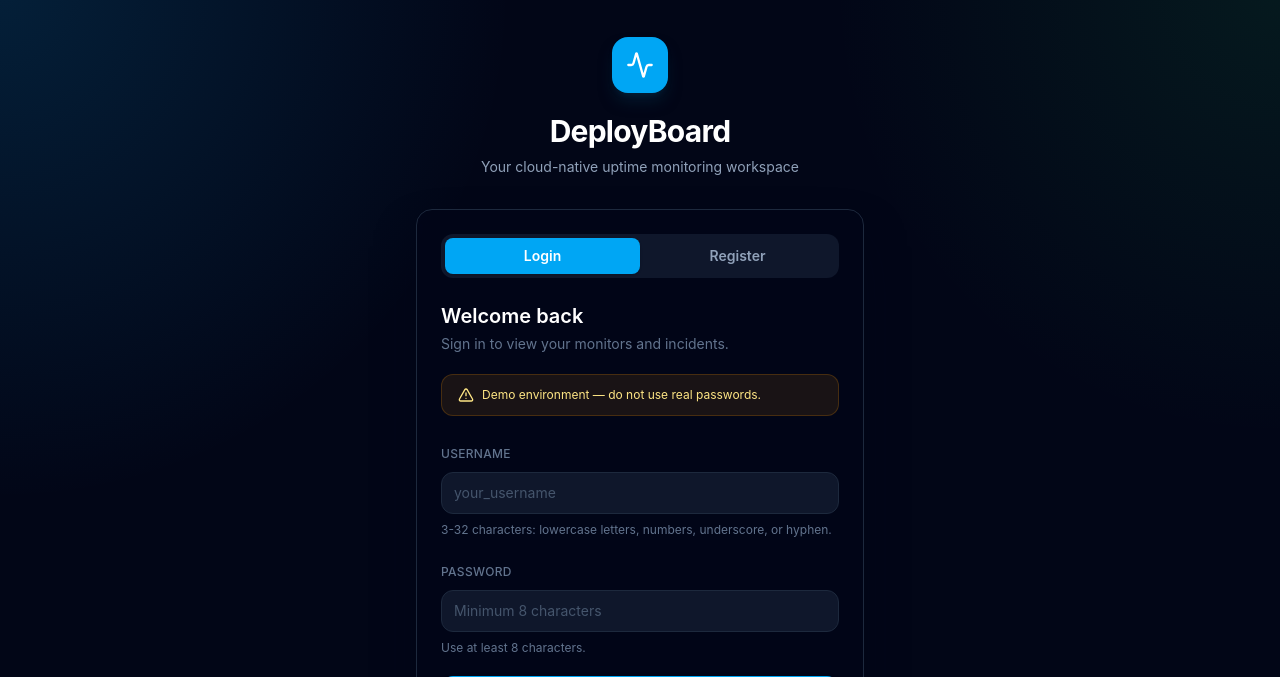
authentication › registers matching passwords through the register endpoint
Click the button "Register": (738, 256) 640,238 -> 835,274
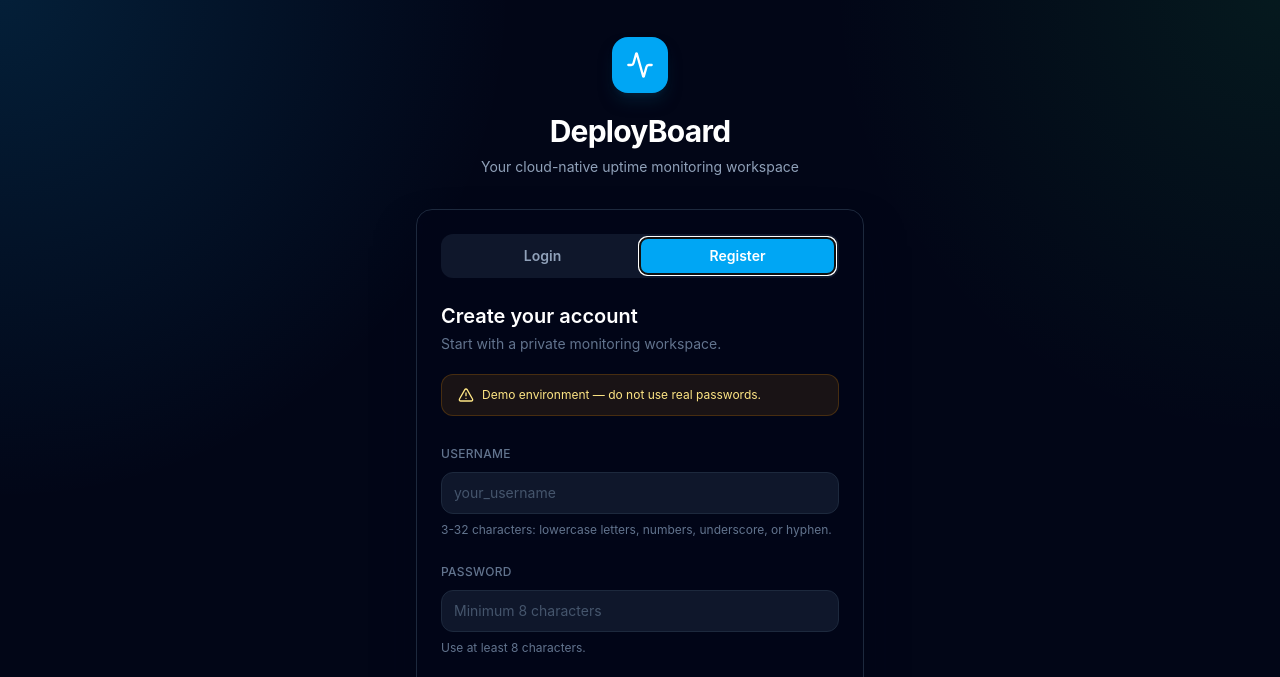
In the field labelled "Username": (640, 493) 441,472 -> 839,514, type "test_user"
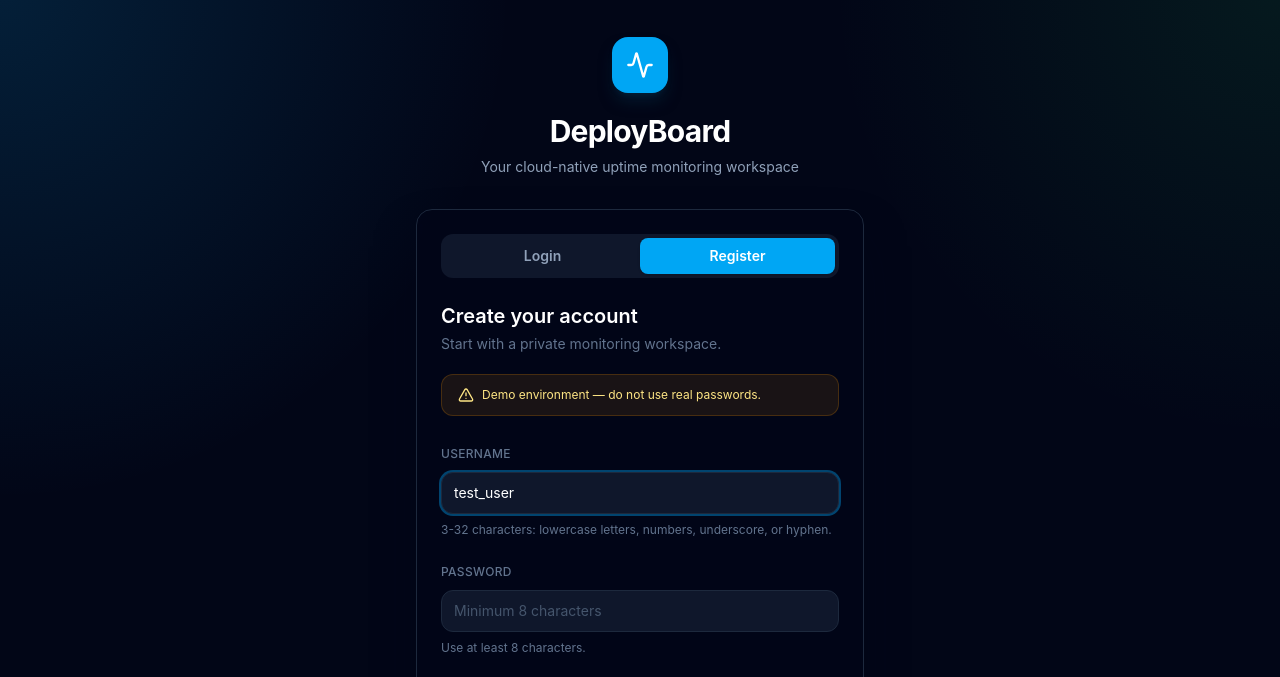
In the password field labelled "Password": (640, 611) 441,590 -> 839,632, type "password123"
(page scrolled)
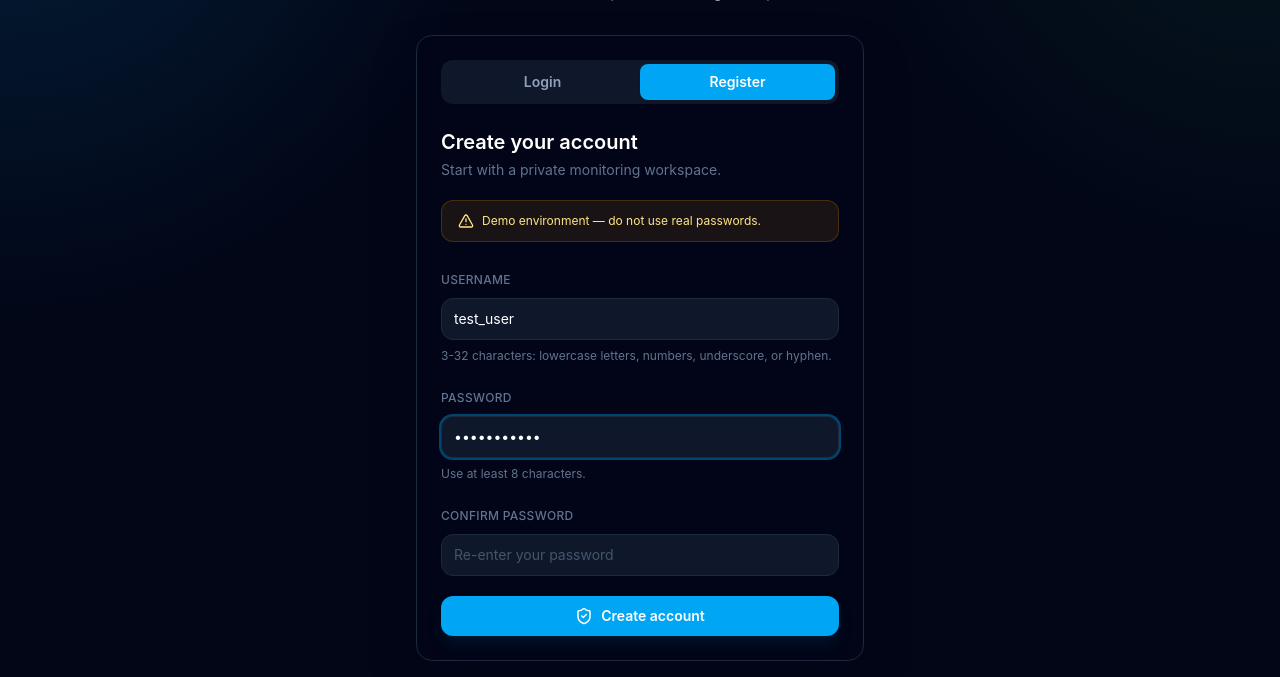
In the password field labelled "Confirm password": (640, 555) 441,534 -> 839,576, type "password123"
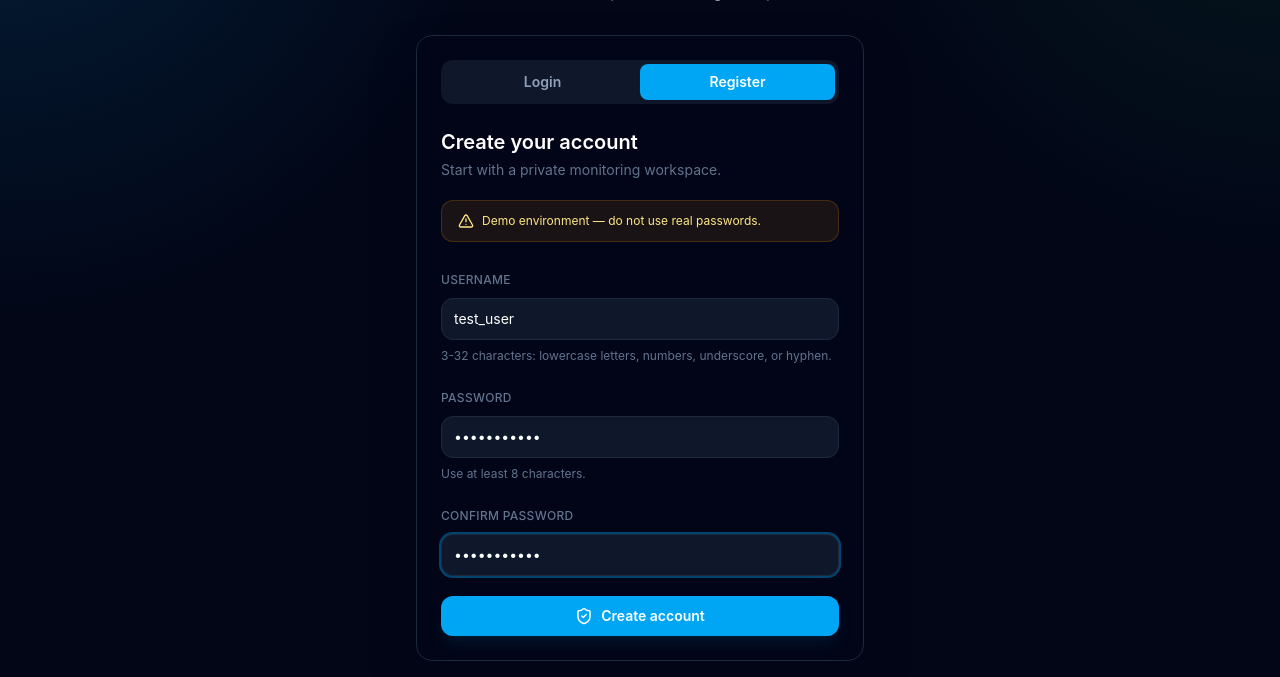
Click the button "Create account": (640, 616) 441,596 -> 839,636
(page scrolled)
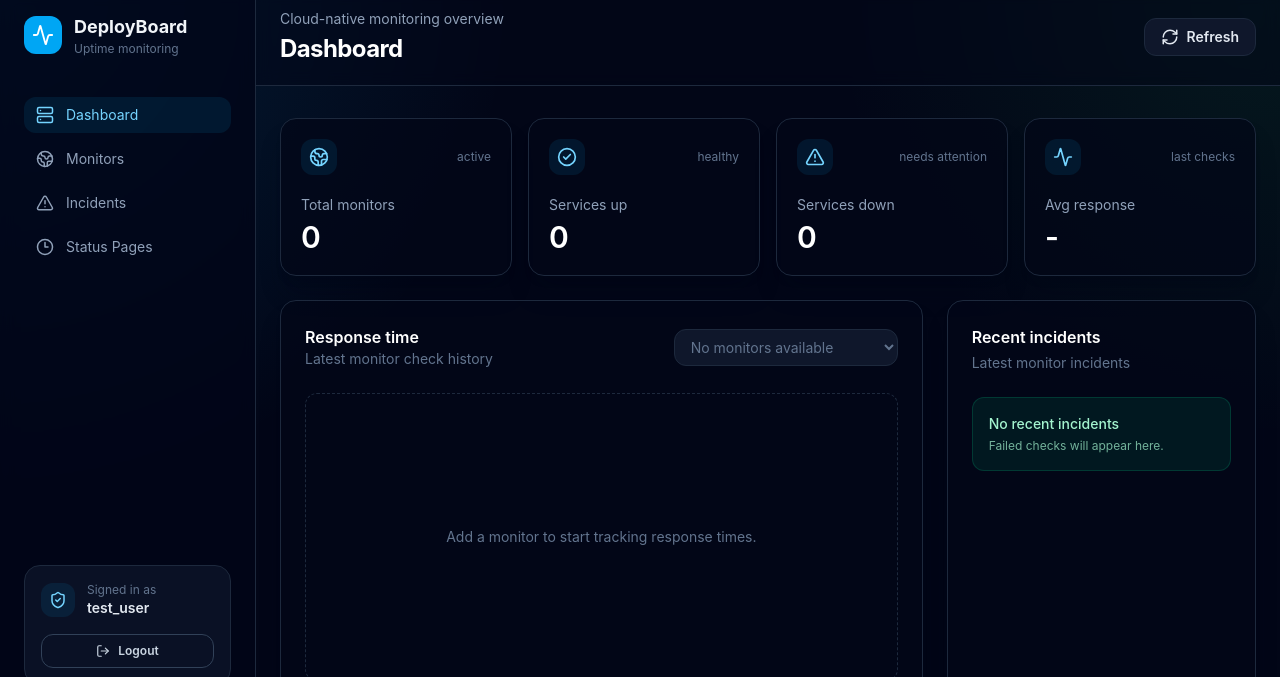
Check: the heading "Dashboard" is shown, box 280,34 -> 403,63
